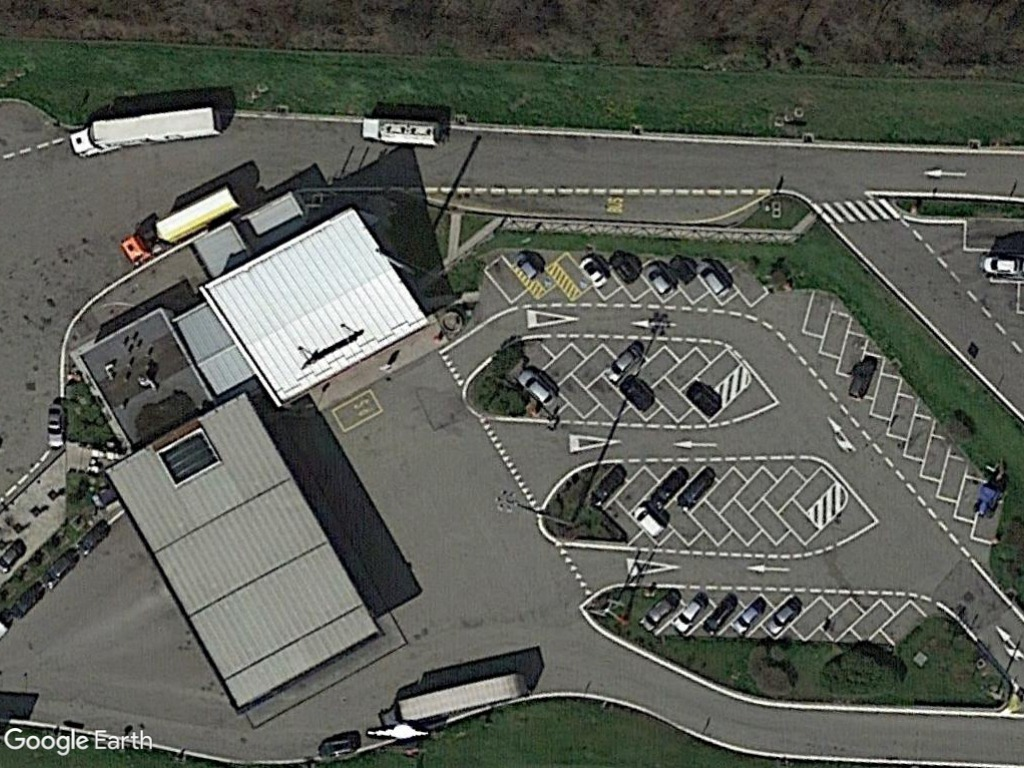car: (690, 256, 735, 301), (763, 595, 807, 641), (669, 591, 712, 638), (515, 367, 560, 410), (603, 342, 649, 384), (636, 258, 678, 300), (729, 597, 768, 636), (573, 252, 611, 289), (640, 594, 675, 633), (973, 250, 1024, 276), (43, 402, 68, 452), (509, 248, 544, 283)
longvehicle: (373, 666, 532, 731), (62, 106, 232, 160)
truck: (114, 183, 245, 272), (355, 115, 447, 147)
van: (627, 502, 667, 541)
